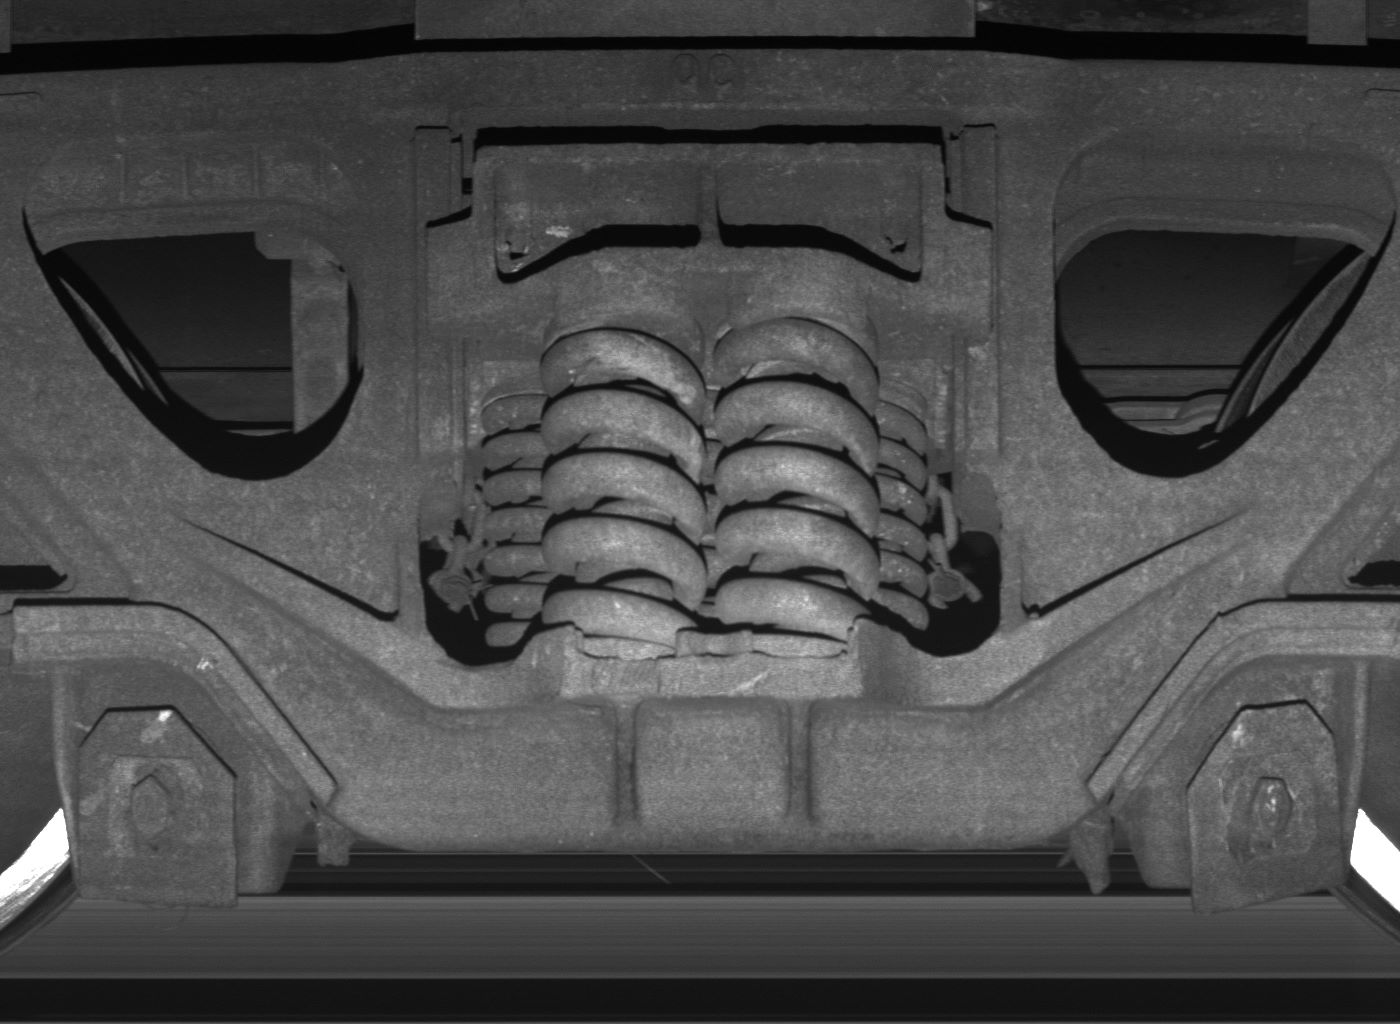locking plate: (1121, 658, 1367, 911)
normal: (51, 658, 284, 902)
